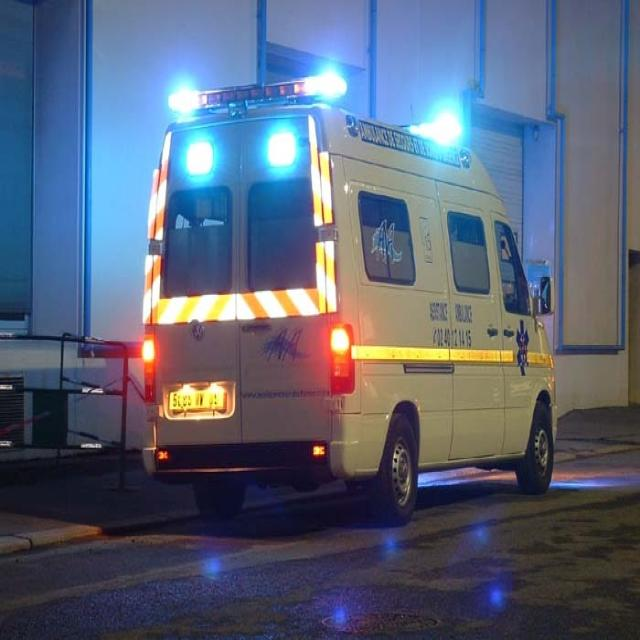emergency-vehicle: (151, 103, 576, 504)
